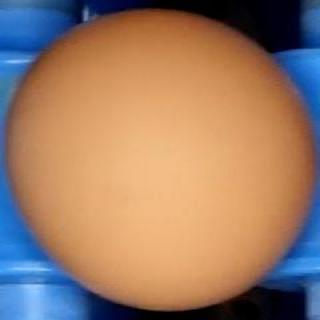Telur: (1, 6, 318, 314)
